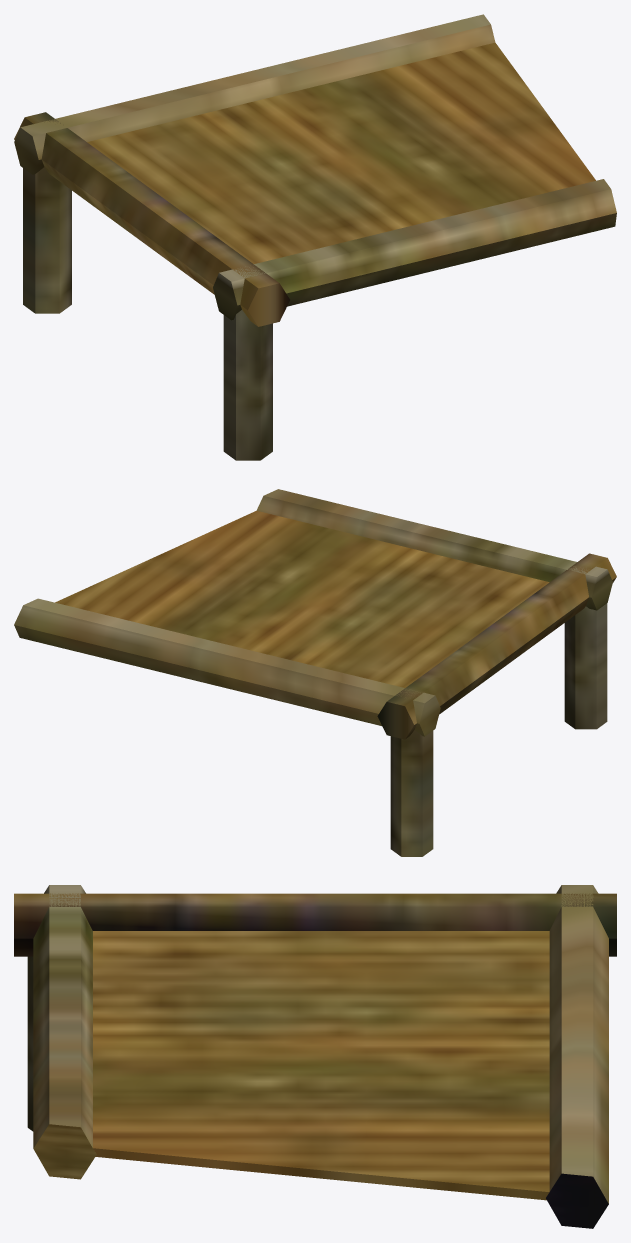
File: 2half_table.fbx
3 renders of one model, top to bottom at view 1: azimuth 30°, elevation 25°; view 2: azimuth 150°, elevation 25°; view 3: azimuth 270°, elevation 25°, orthographic. The views are drawn at different scales.
Visible parts, largest first — view 1: 2half table; view 2: 2half table; view 3: 2half table.
Part boxes in pixels (x1,y1,x2,y2): 2half table: (14, 14, 616, 460); 2half table: (14, 489, 616, 856); 2half table: (14, 885, 616, 1228).
Bounding box in the file's own units: 3.34 × 2.89 × 1.21.
Materials: 1 (1 with a texture image).
